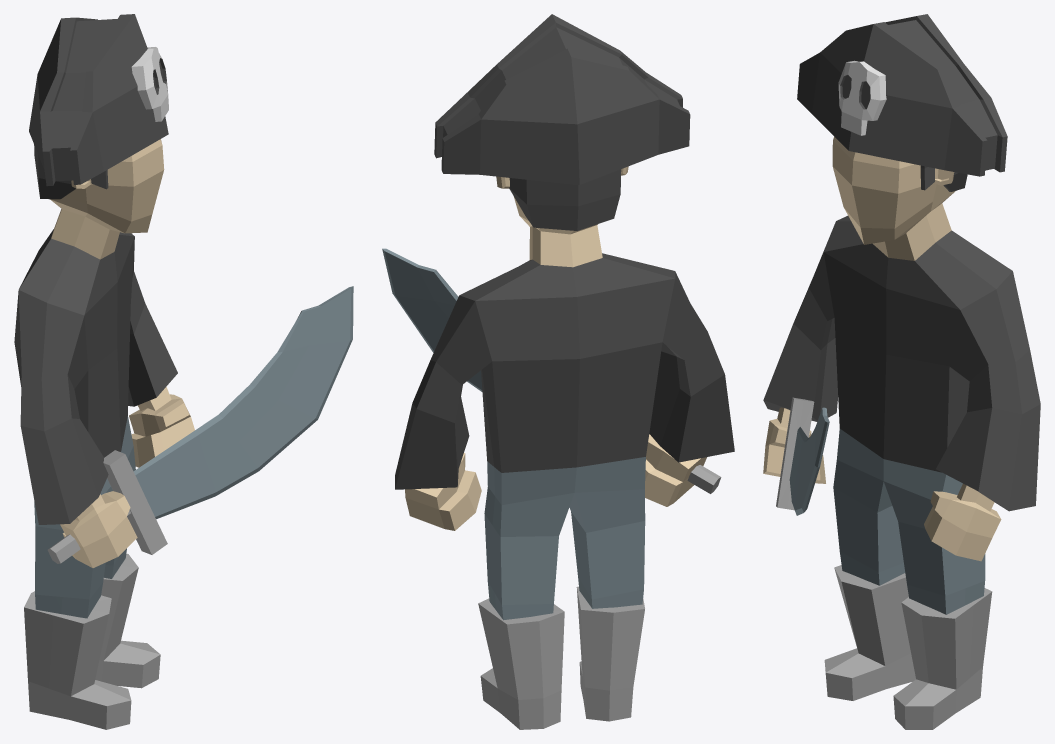
The model's file is pirate_animation_v001.fbx.
3 views of the same model, side by side, from view 1: azimuth 30°, elevation 25°; view 2: azimuth 150°, elevation 25°; view 3: azimuth 270°, elevation 25° (orthographic).
Visible parts, largest first — view 1: pirate_animation; view 2: pirate_animation; view 3: pirate_animation.
Boxes of the visible parts, x1,y1,x2,y2 form: pirate_animation: (14, 14, 353, 729); pirate_animation: (382, 14, 734, 729); pirate_animation: (763, 14, 1040, 729).
Bounding box in the file's own units: 0.5269 × 1.01 × 0.3716.
